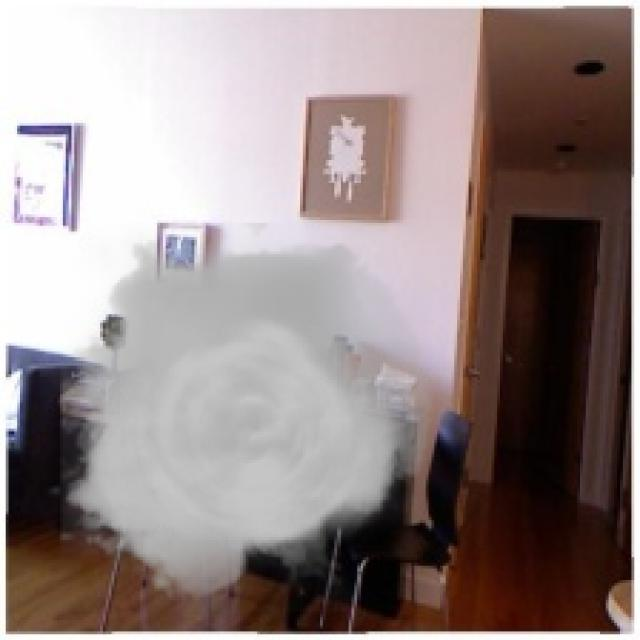smoke: (60, 223, 434, 611)
